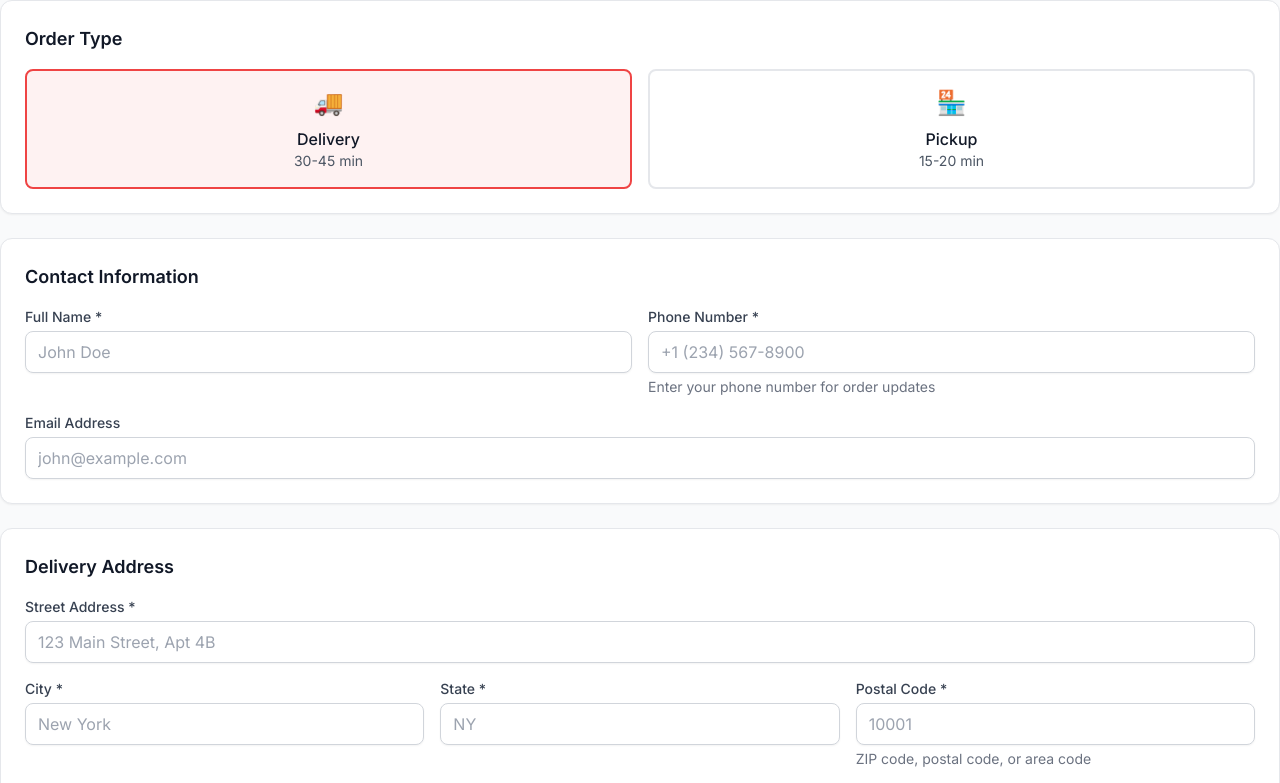
Test case: CheckoutForm › should format phone number as user types
This screenshot has width=1280, height=783.
Type "1234567890" into the field with placeholder "+1 (234) 567-8900" at (952, 352), box [648,331,1255,373]
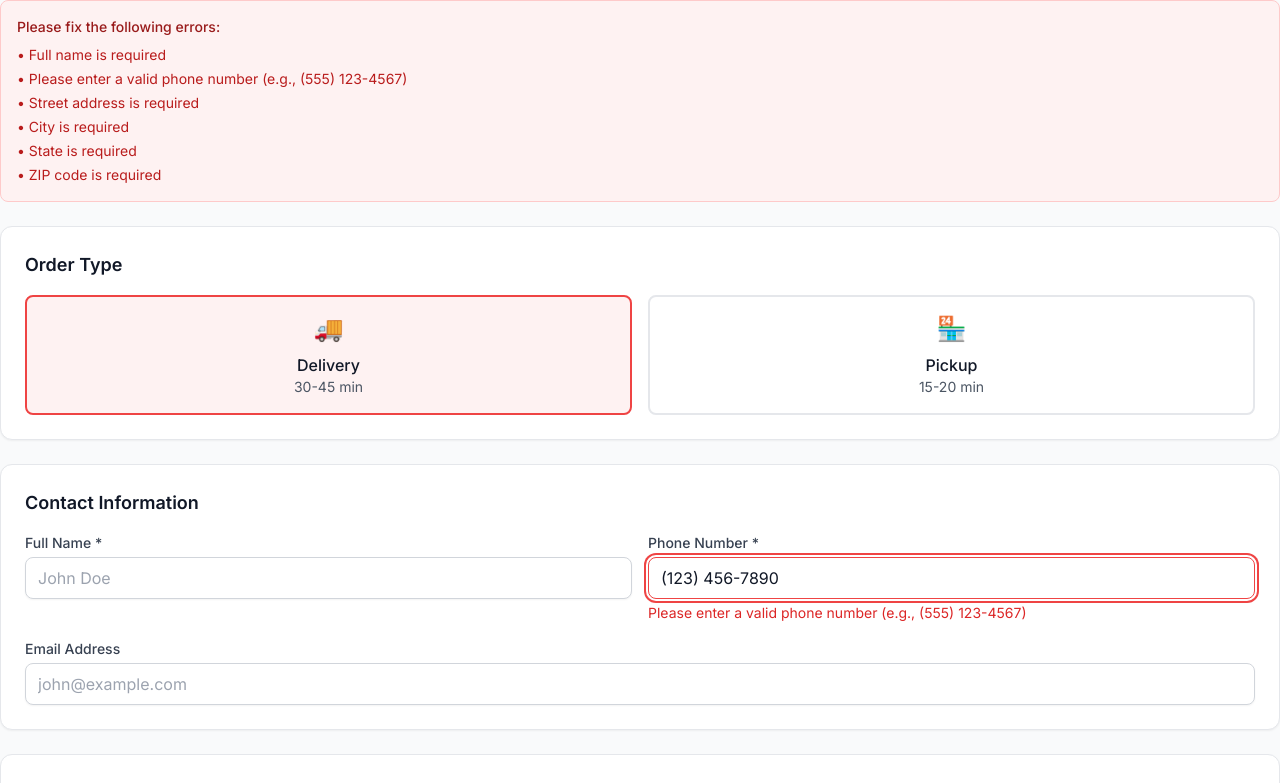
Check: the field with placeholder "+1 (234) 567-8900" holds "(123) 456-7890", box [648,557,1255,599]
